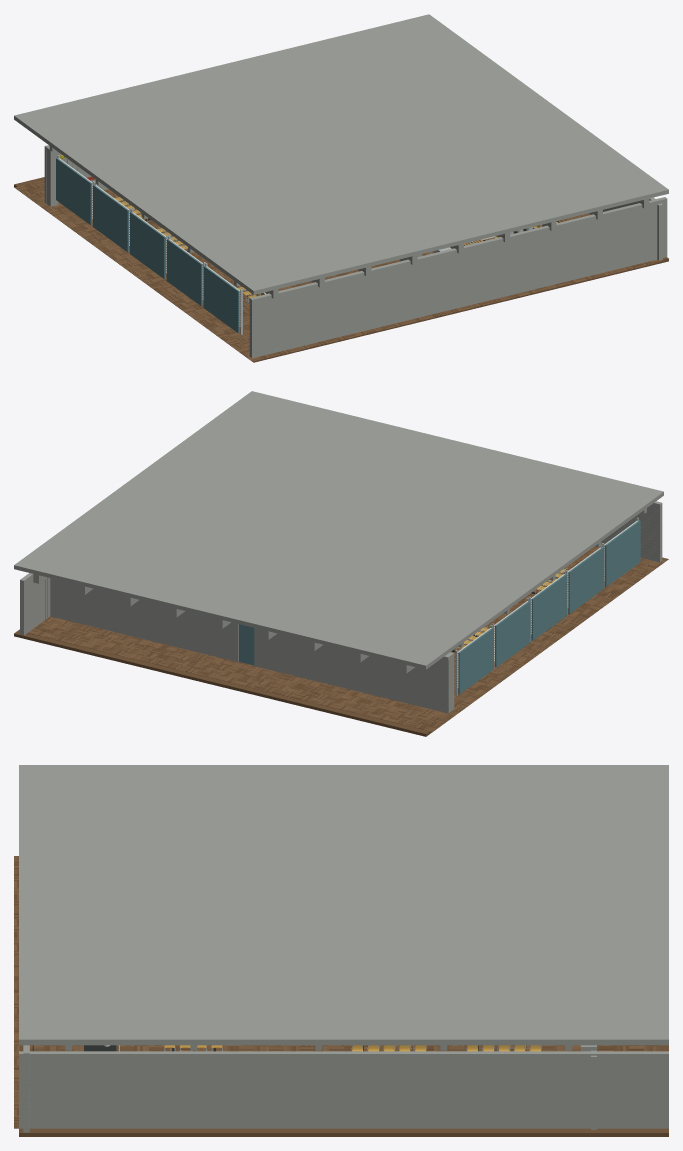
Rendered from mensa-b.glb.
3 views of the same model, one above another, from view 1: azimuth 30°, elevation 25°; view 2: azimuth 150°, elevation 25°; view 3: azimuth 270°, elevation 25° (orthographic). The views are drawn at different scales.
Visible parts, largest first — view 1: Low concrete ceiling slab, Cafe back concrete wall, Daylight glazing, Daylight glazing.001, Daylight glazing.004, Daylight glazing.002, Daylight glazing.003, Continuous parquet substrate, Square structural column; view 2: Low concrete ceiling slab, Concrete art partition, Concrete art partition.001, Continuous parquet substrate, Daylight glazing.002, Daylight glazing, Daylight glazing.004, Daylight glazing.001, Daylight glazing.003, Right concrete art wall, Cafe back concrete wall, Square structural column (+1 smaller); view 3: Low concrete ceiling slab, Right concrete art wall, Continuous parquet substrate, Cafe back concrete wall.
Part boxes in pixels (x1,y1,x2,y2): Low concrete ceiling slab: (14,14,668,294); Cafe back concrete wall: (249,197,667,358); Daylight glazing: (203,266,239,333); Daylight glazing.001: (166,239,202,306); Daylight glazing.004: (56,158,91,225); Daylight glazing.002: (130,212,165,279); Daylight glazing.003: (93,185,128,252); Continuous parquet substrate: (14,177,668,362); Square structural column: (44,145,58,206); Low concrete ceiling slab: (14,391,663,669); Concrete art partition: (262,630,450,713); Concrete art partition.001: (50,578,230,660); Continuous parquet substrate: (14,629,432,736); Daylight glazing.002: (531,574,567,640); Daylight glazing: (604,520,640,586); Daylight glazing.004: (458,627,493,694); Daylight glazing.001: (568,547,603,613); Daylight glazing.003: (495,600,530,667); Right concrete art wall: (20,573,50,635); Cafe back concrete wall: (599,501,662,562); Square structural column: (440,652,454,713); Low concrete ceiling slab: (19,765,668,1045); Right concrete art wall: (19,1051,668,1128); Continuous parquet substrate: (19,1045,668,1136); Cafe back concrete wall: (23,1045,29,1132).
Bounding box in the file's own units: 26.2 × 4.29 × 26.2.
